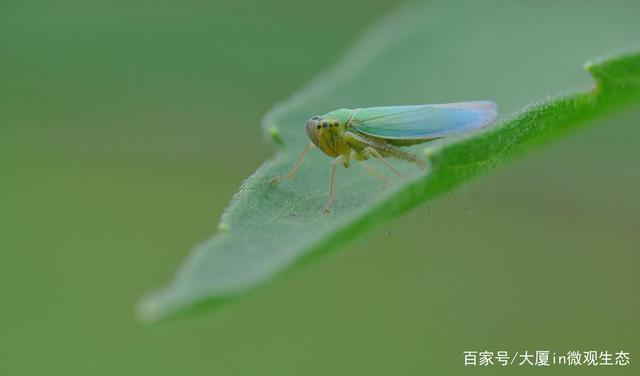Cicadellidae: (271, 100, 502, 208)
